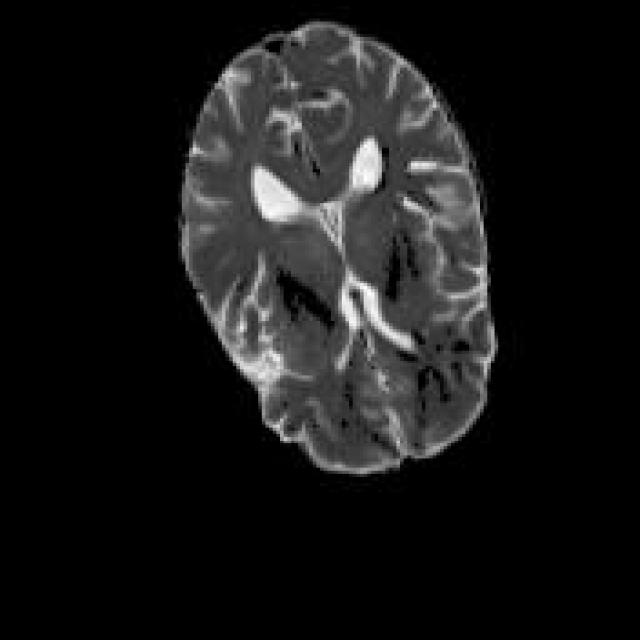CONTROL: (175, 18, 498, 474)
